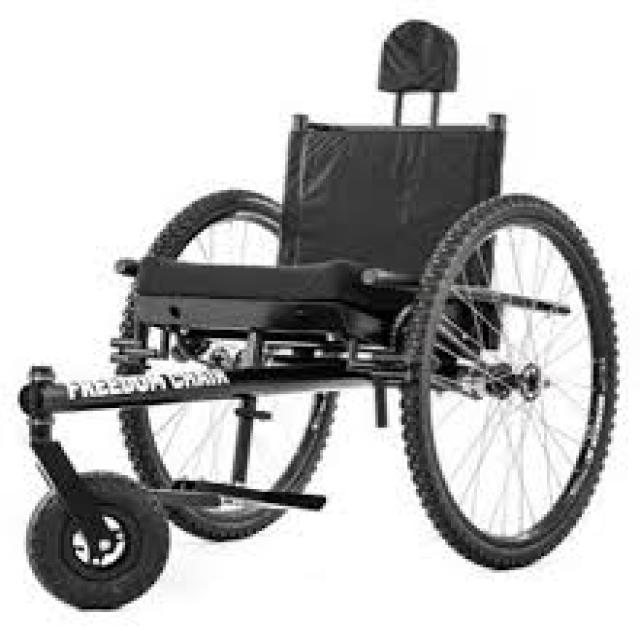wheelchairs: (108, 112, 626, 576)
